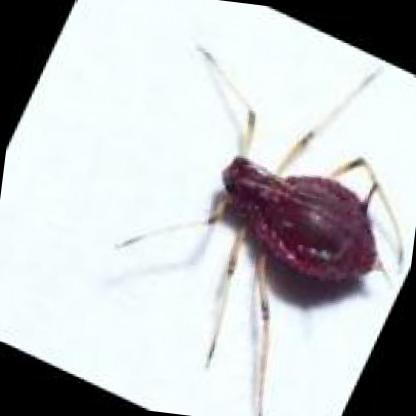uroleucon compositae: (218, 154, 386, 285)
